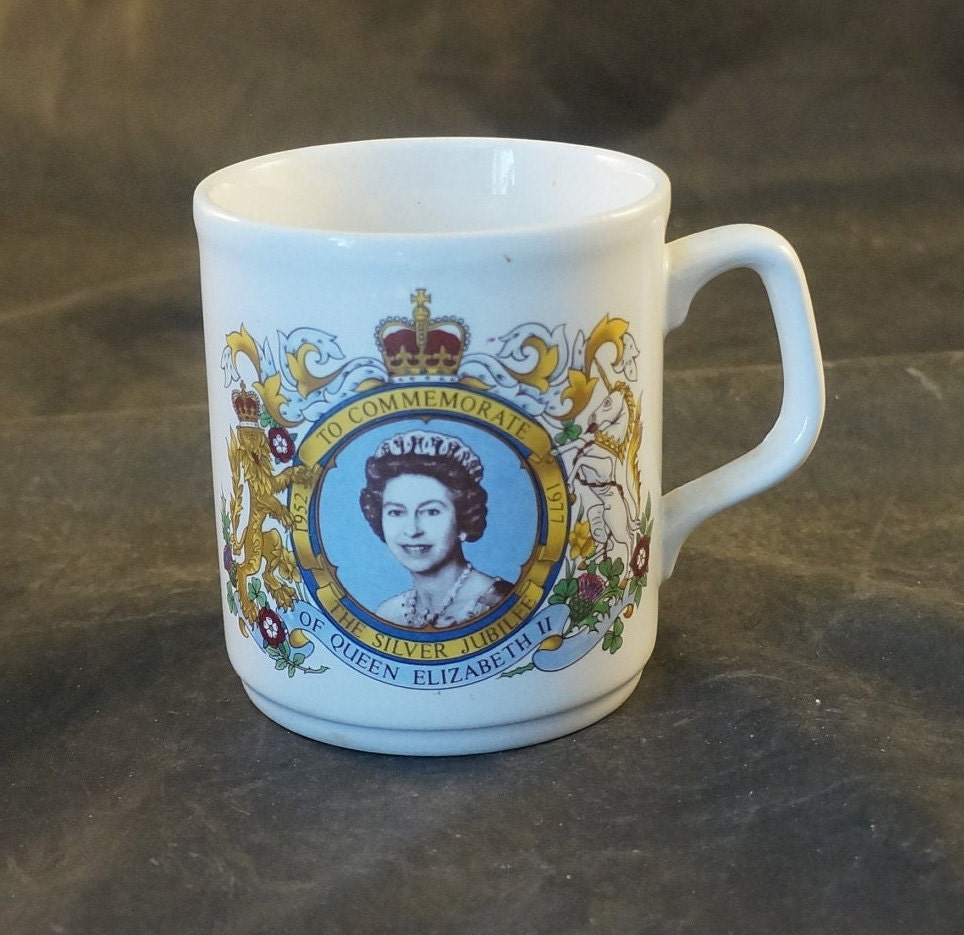cup: (181, 124, 830, 762)
